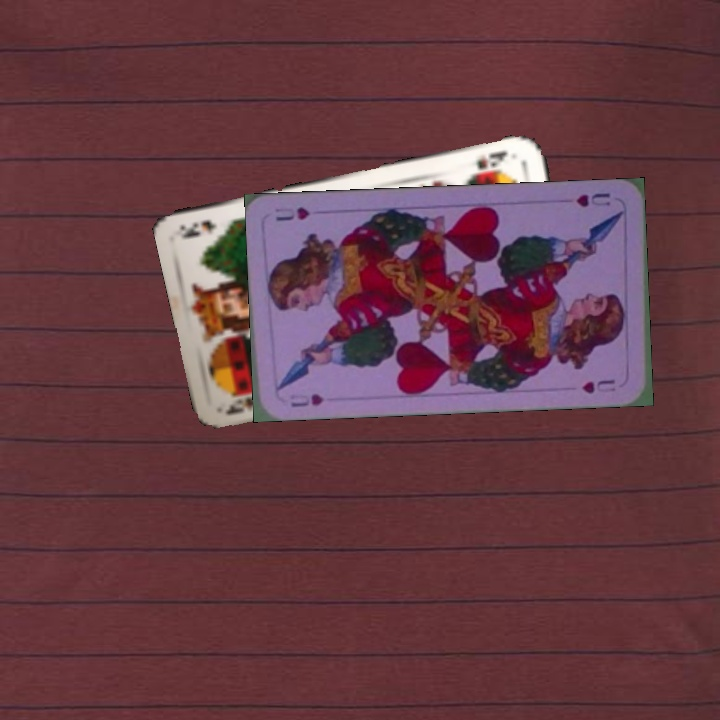HU: (285, 389, 327, 410), (572, 189, 613, 210)
SK: (466, 147, 511, 179), (221, 393, 259, 418)
